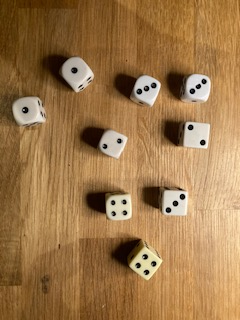four: (124, 238, 164, 280), (103, 190, 133, 222)
one: (57, 55, 96, 93), (11, 94, 47, 128)
three: (128, 73, 161, 108), (178, 72, 212, 104), (158, 185, 190, 218)
two: (95, 127, 129, 160), (176, 120, 211, 151)
